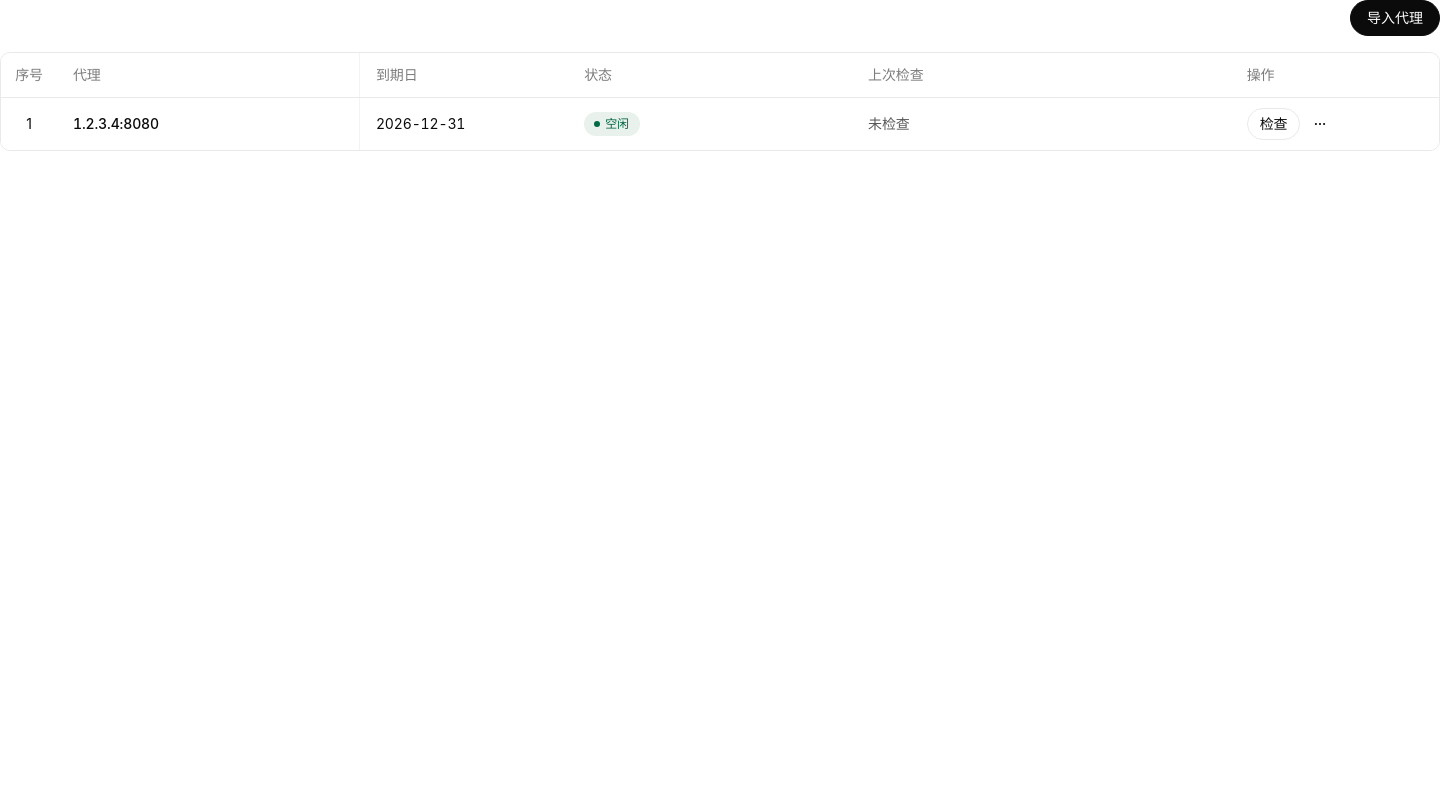
Test: 代理池页 › 编辑：密码留空不改，只发送有改动的字段
This screenshot has width=1440, height=810.
Click the button named "更多操作": (1320, 124) [1304,108,1336,140]
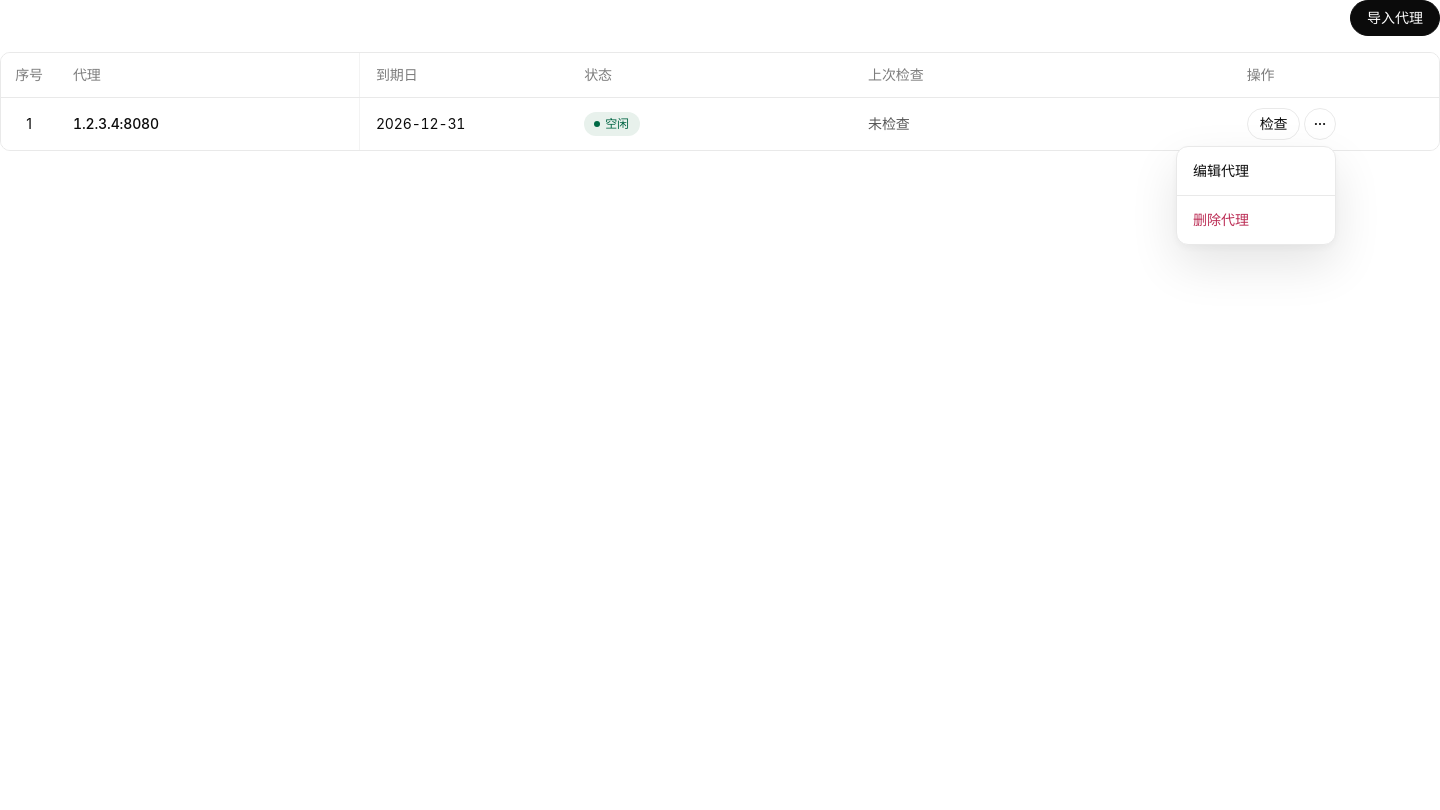
Click the menu item "编辑代理": (1221, 171) [1193,162,1249,179]
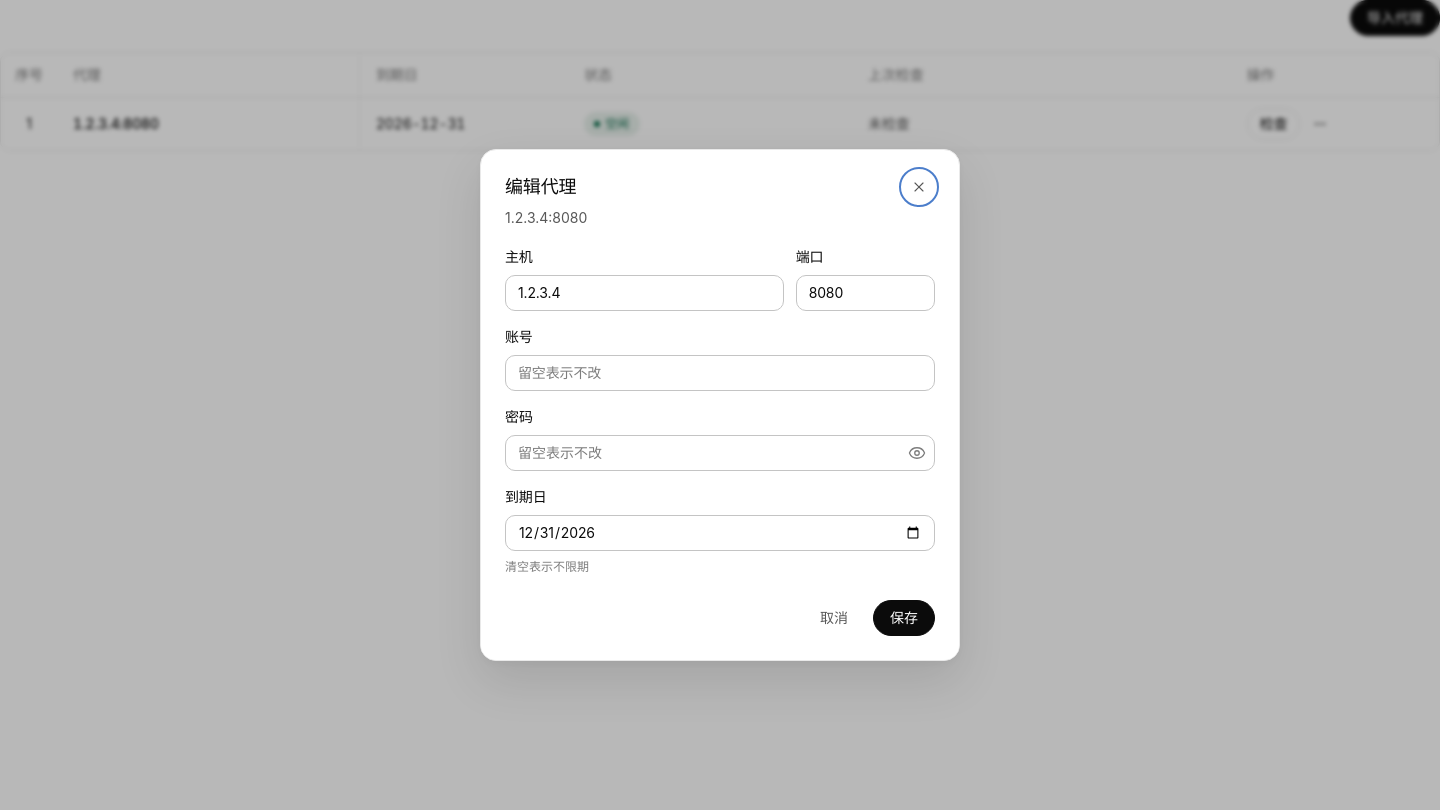
Result: the number of fields with placeholder "留空表示不改" is 2 at [505,355,935,391]; [518,443,902,463]
Replace the text in the field labelled "端口" with "9090": (865, 293) [796,275,935,311]
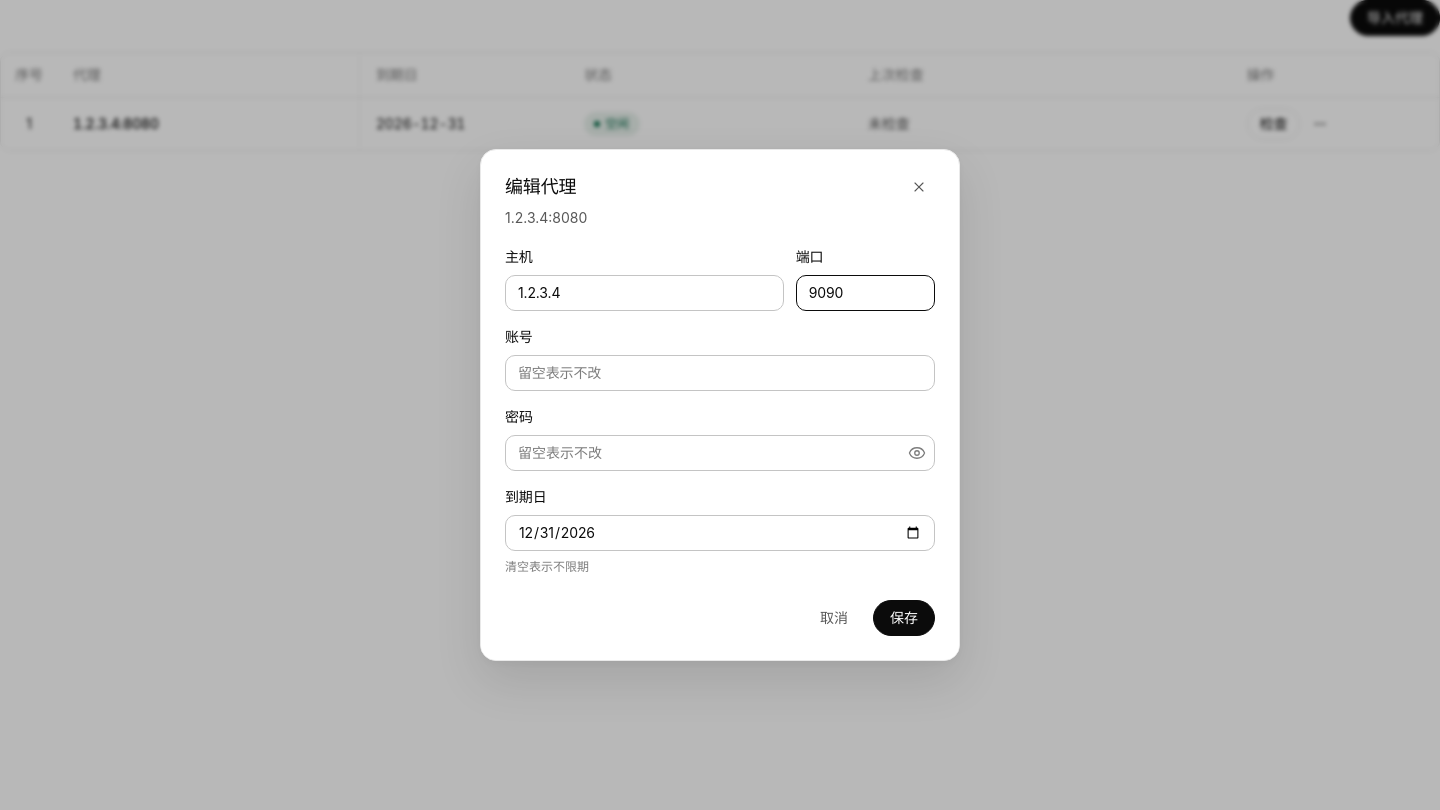
Click the button "保存": (904, 618) [873,600,935,636]
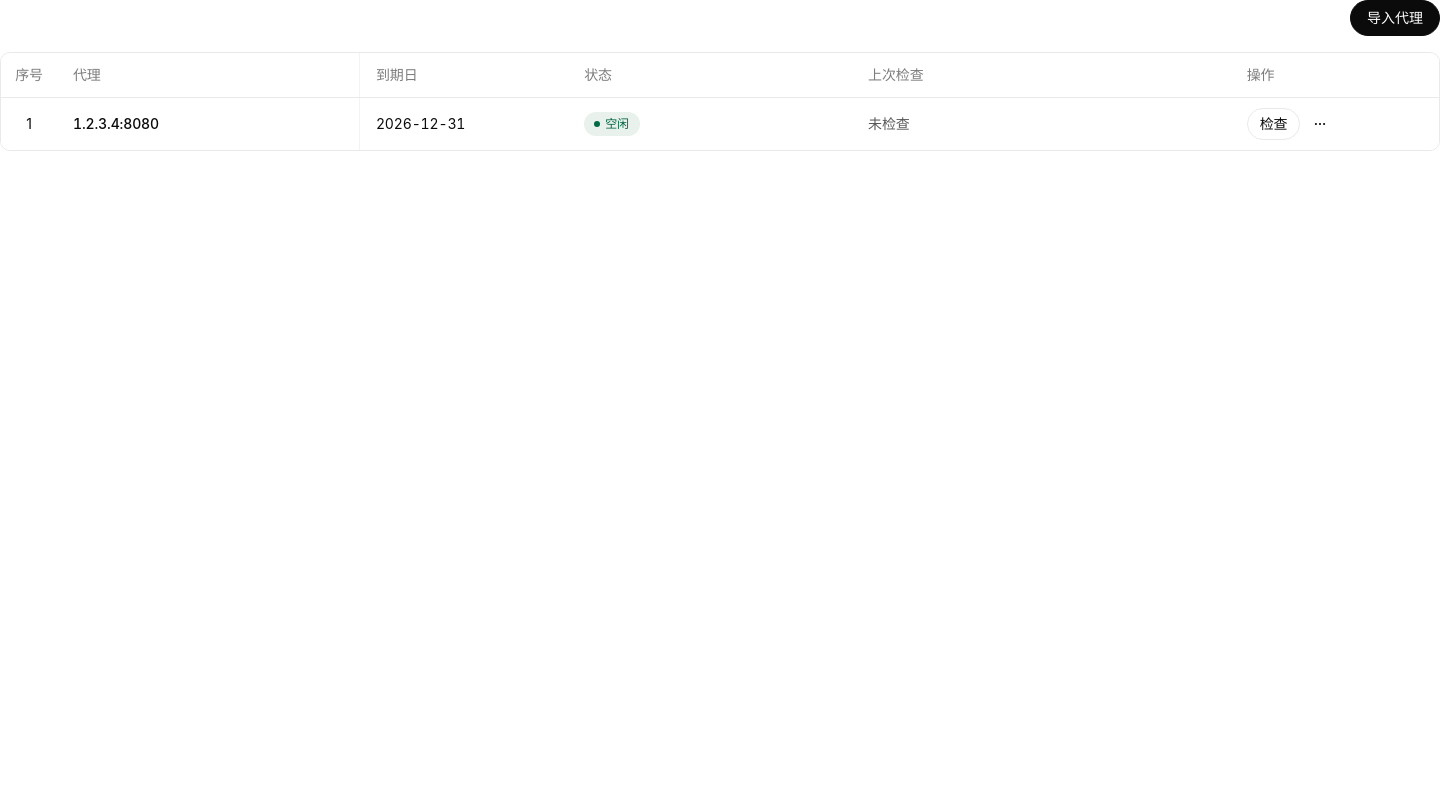
Result: the dialog is gone
